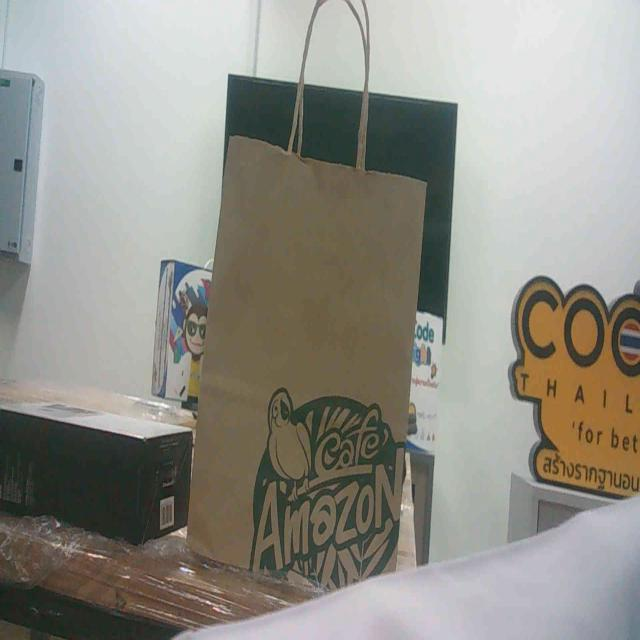bag: (199, 115, 423, 640)
